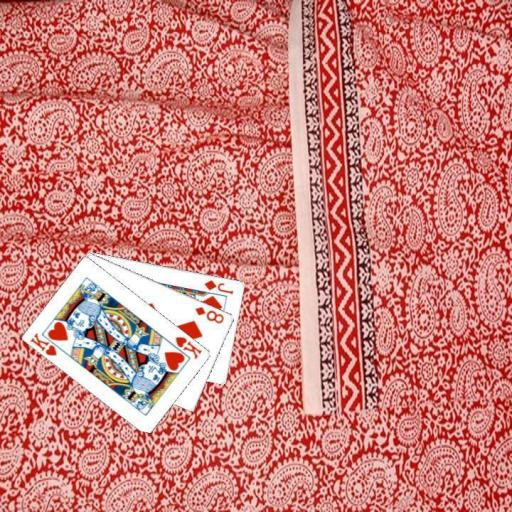card-corner: (28, 329, 58, 357), (172, 334, 203, 360), (192, 303, 225, 325), (201, 276, 235, 296)
